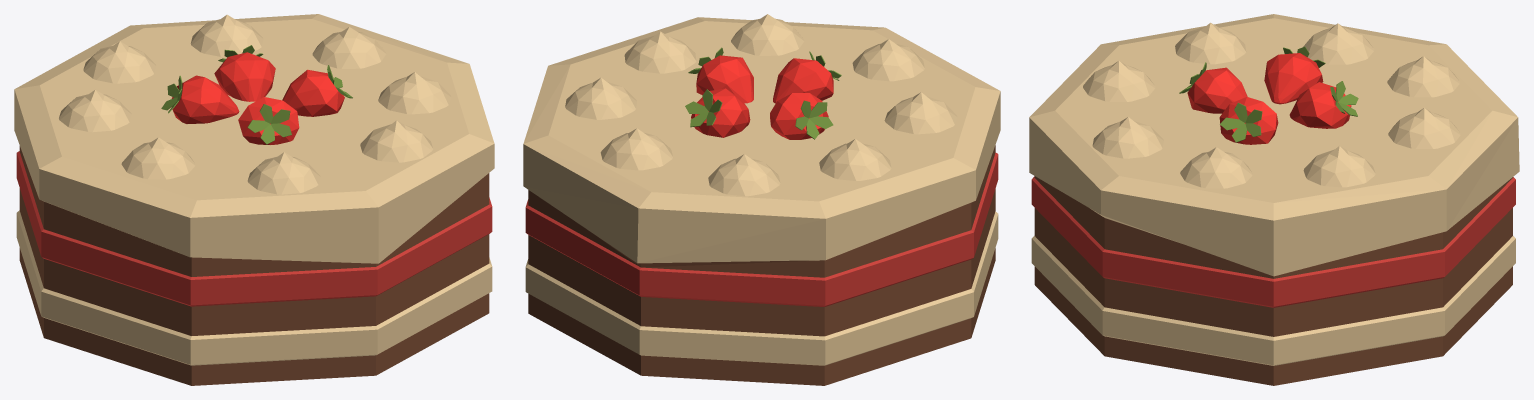
Rendered from Cake_01.fbx.
The picture shows the model from 3 angles, left to right: view 1: azimuth 30°, elevation 25°; view 2: azimuth 150°, elevation 25°; view 3: azimuth 270°, elevation 25°; orthographic projection.
Parts seen in each view (by area): view 1: Cake_01; view 2: Cake_01; view 3: Cake_01.
Part boxes in pixels (x1=…): Cake_01: x1=14, y1=14, x2=494, y2=385; Cake_01: x1=523, y1=14, x2=1000, y2=385; Cake_01: x1=1029, y1=14, x2=1519, y2=385.
Bounding box in the file's own units: 24.5 × 11.65 × 24.57.
